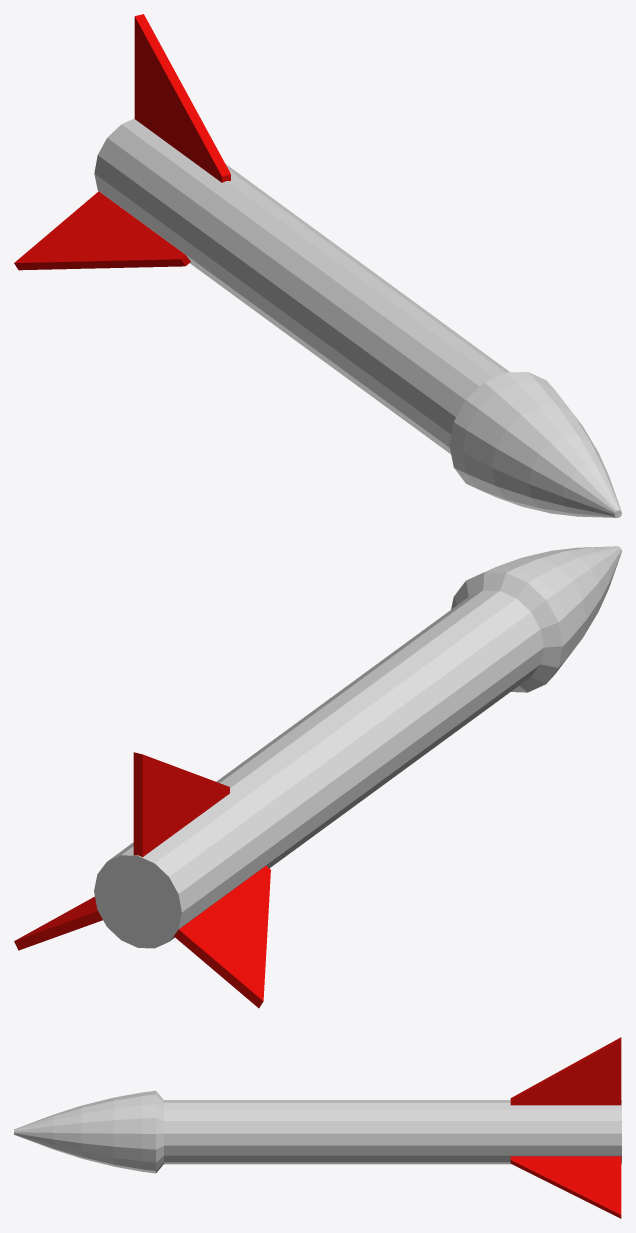
File: missile.glb
3 views of the same model, one above another, from view 1: azimuth 30°, elevation 25°; view 2: azimuth 150°, elevation 25°; view 3: azimuth 270°, elevation 25° (orthographic). The views are drawn at different scales.
Visible parts, largest first — view 1: Missile; view 2: Missile; view 3: Missile.
Part boxes in pixels (bbox=[...]): Missile: bbox=[14, 14, 621, 517]; Missile: bbox=[14, 546, 621, 1008]; Missile: bbox=[14, 1037, 621, 1218].
Size of the model in its own units: 0.7962 by 0.6906 by 2.65.
